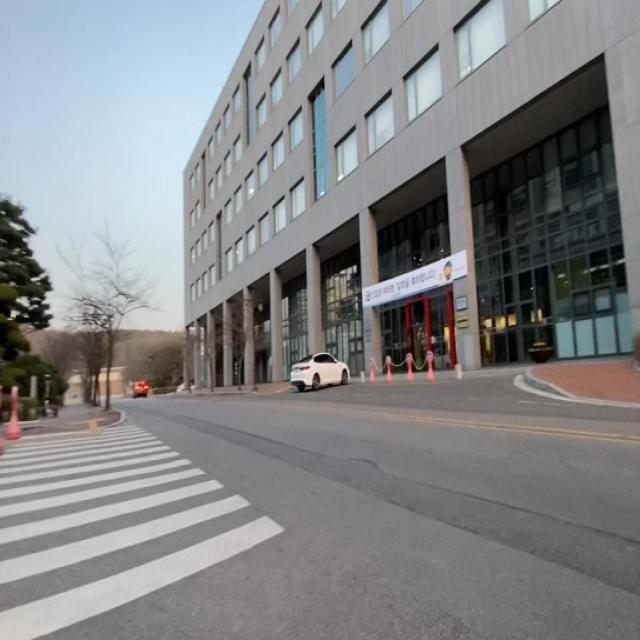sidewalk: (530, 359, 640, 407), (38, 403, 121, 430)
